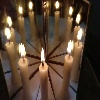fire: (41, 47, 46, 64)
